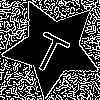T: (27, 22, 75, 77)
